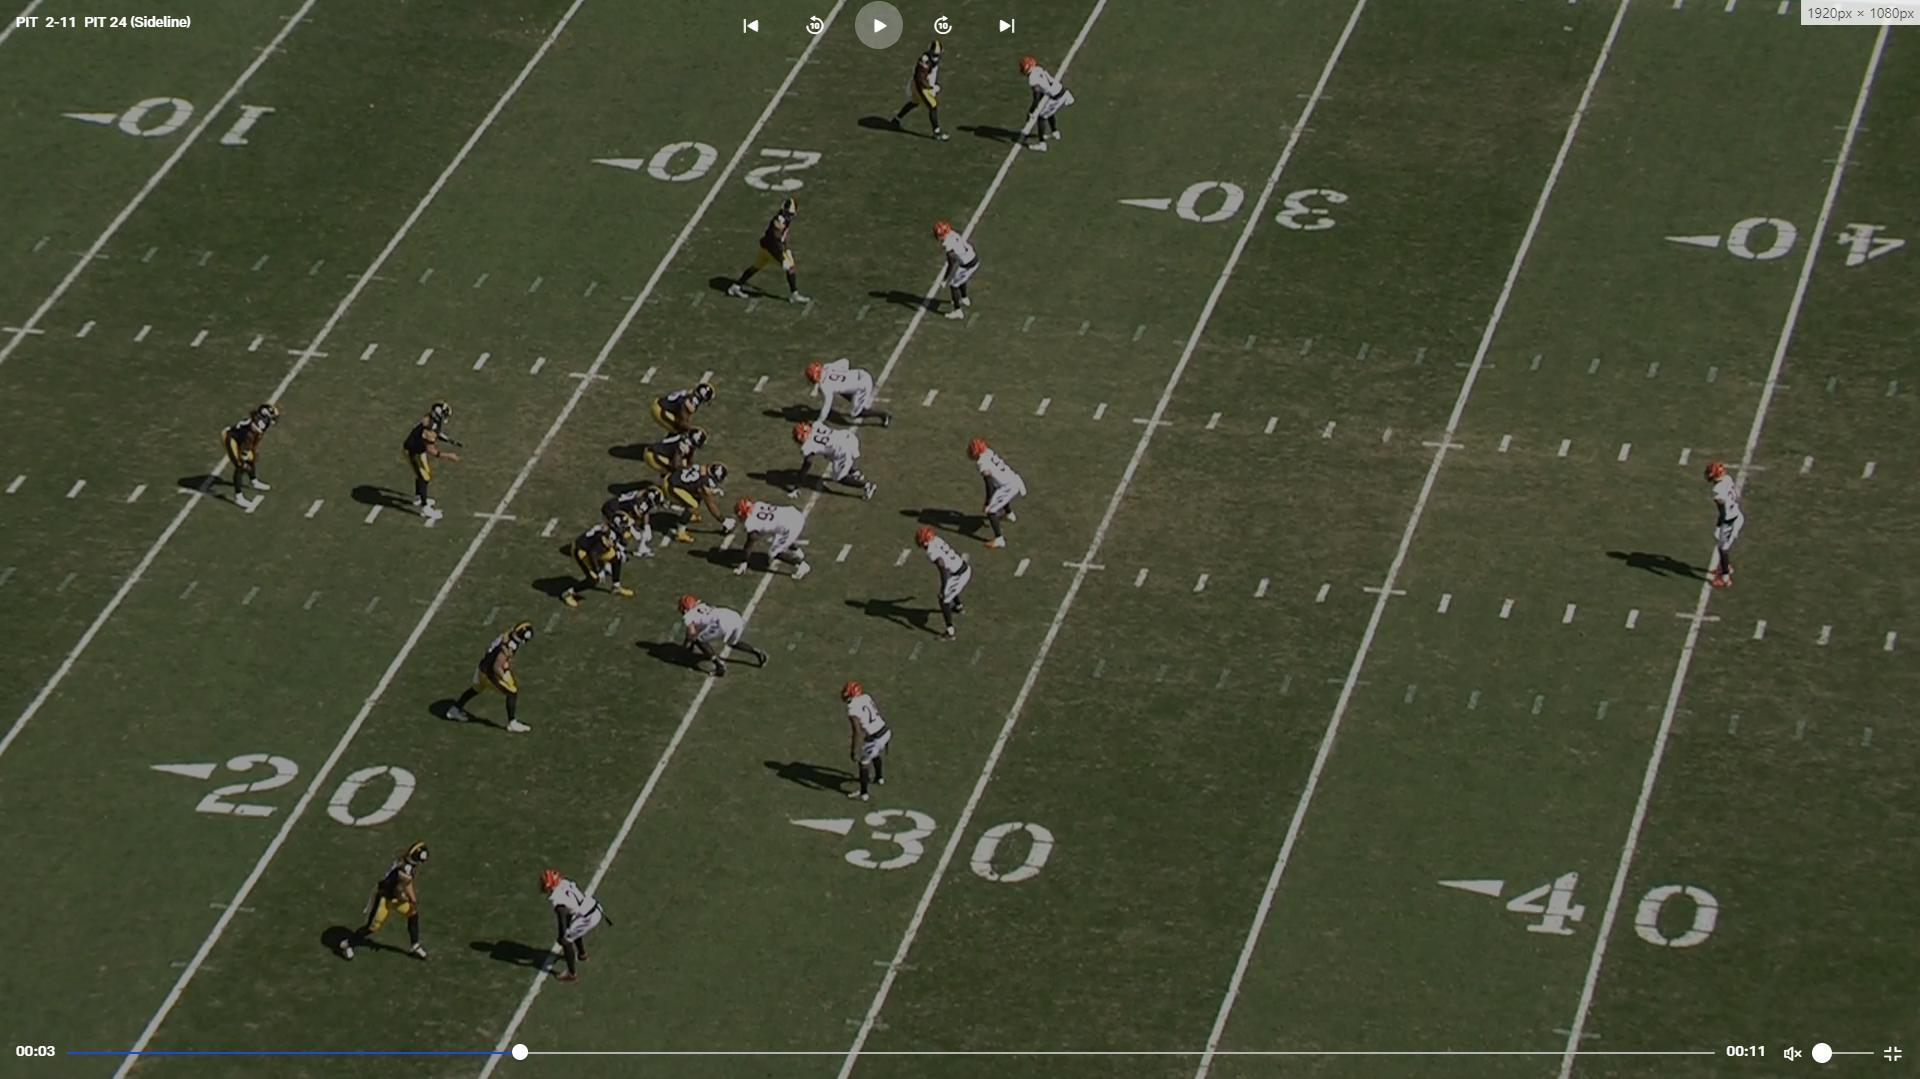player: (331, 837, 438, 965), (444, 618, 544, 737), (725, 192, 810, 313), (678, 595, 775, 684), (535, 866, 602, 984), (215, 398, 282, 515), (730, 501, 820, 587), (791, 425, 881, 506), (557, 518, 631, 616), (401, 399, 455, 532), (838, 677, 892, 809), (807, 359, 900, 433), (892, 36, 957, 141), (918, 526, 975, 645), (658, 459, 733, 547), (967, 437, 1024, 550), (1697, 462, 1744, 593), (1019, 54, 1076, 158), (602, 485, 673, 562), (931, 219, 982, 326), (652, 372, 718, 442), (643, 431, 708, 482)
